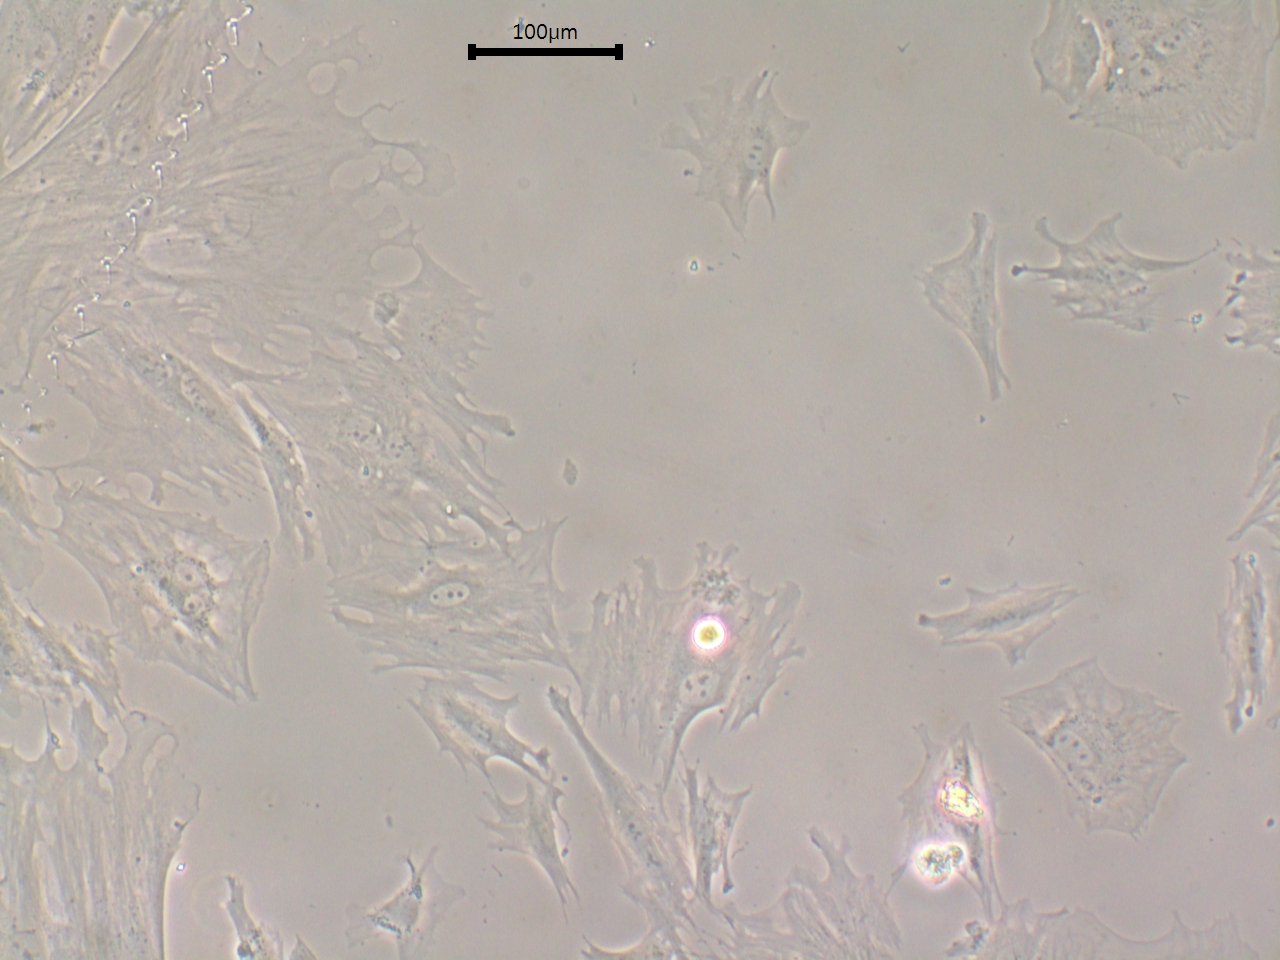dividing: (237, 254, 549, 583), (43, 476, 292, 722)
medium-polygonal: (1003, 206, 1222, 351), (916, 203, 1019, 419), (908, 563, 1086, 665), (386, 677, 558, 781), (476, 765, 589, 910), (669, 750, 758, 907)
medium-spread: (562, 534, 831, 793), (1006, 649, 1195, 848), (649, 67, 818, 240)
